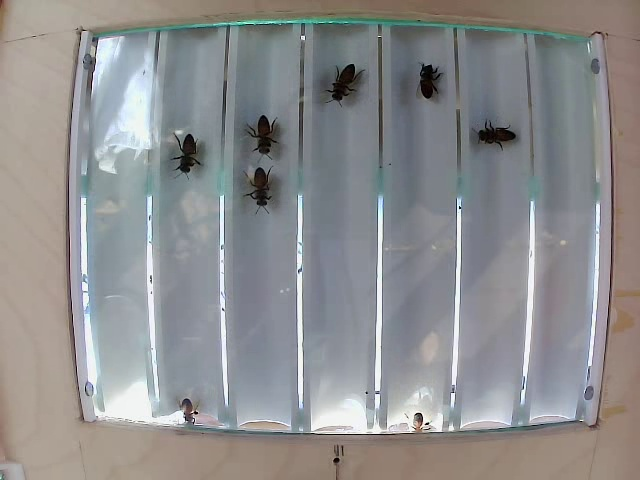bee: (158, 381, 217, 430), (318, 51, 361, 107), (238, 159, 273, 223), (409, 61, 443, 118), (158, 137, 205, 178), (258, 118, 300, 155), (480, 124, 512, 166)
